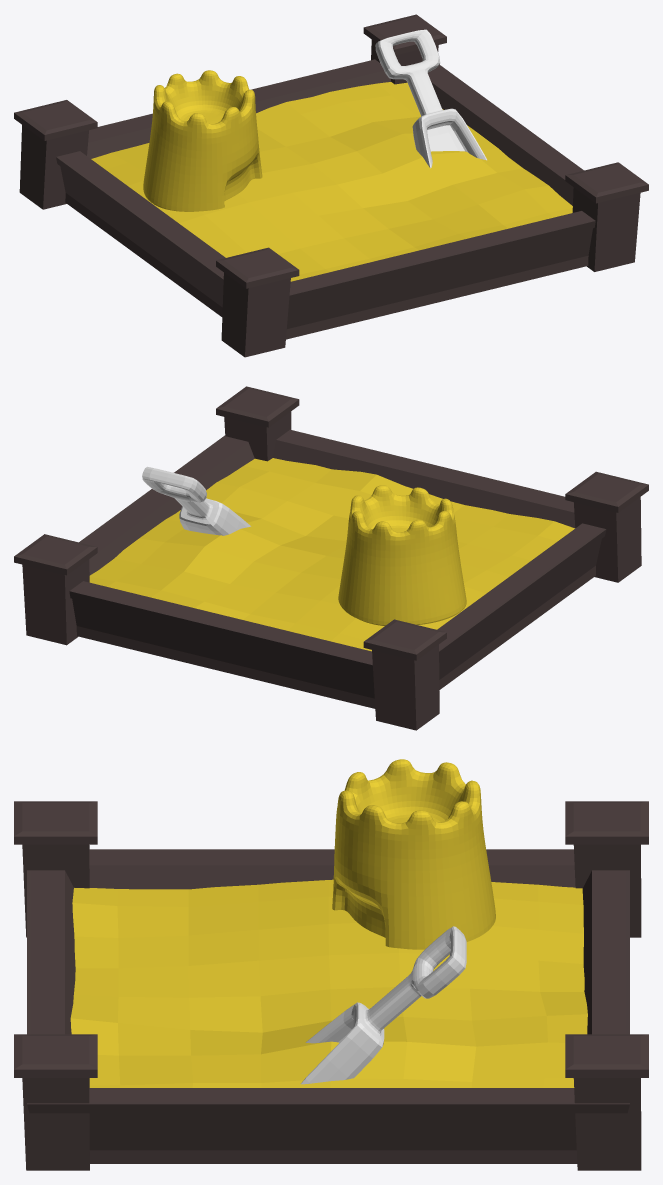
The model's file is SM_Zandbak.fbx.
3 renders of one model, top to bottom at view 1: azimuth 30°, elevation 25°; view 2: azimuth 150°, elevation 25°; view 3: azimuth 270°, elevation 25°, orthographic. The views are drawn at different scales.
Parts seen in each view (by area): view 1: Plane.005, Plane.004, Cube.007, Cylinder, Cube.005; view 2: Plane.004, Plane.005, Cube.007, Cylinder, Cube.005; view 3: Plane.005, Plane.004, Cube.007, Cylinder, Cube.005.
Part boxes in pixels (x1,y1,x2,y2): Plane.005: (91, 82, 572, 281); Plane.004: (56, 59, 595, 339); Cube.007: (14, 14, 648, 357); Cylinder: (143, 70, 262, 211); Cube.005: (375, 29, 486, 168); Plane.004: (69, 429, 606, 708); Plane.005: (89, 458, 574, 651); Cube.007: (14, 386, 648, 730); Cylinder: (338, 485, 466, 625); Cube.005: (142, 466, 250, 535); Plane.005: (70, 879, 587, 1087); Plane.004: (27, 849, 629, 1163); Cube.007: (14, 801, 648, 1170); Cylinder: (332, 759, 495, 949); Cube.005: (301, 926, 466, 1084).
Size of the model in its own units: 223 by 74.81 by 223.
